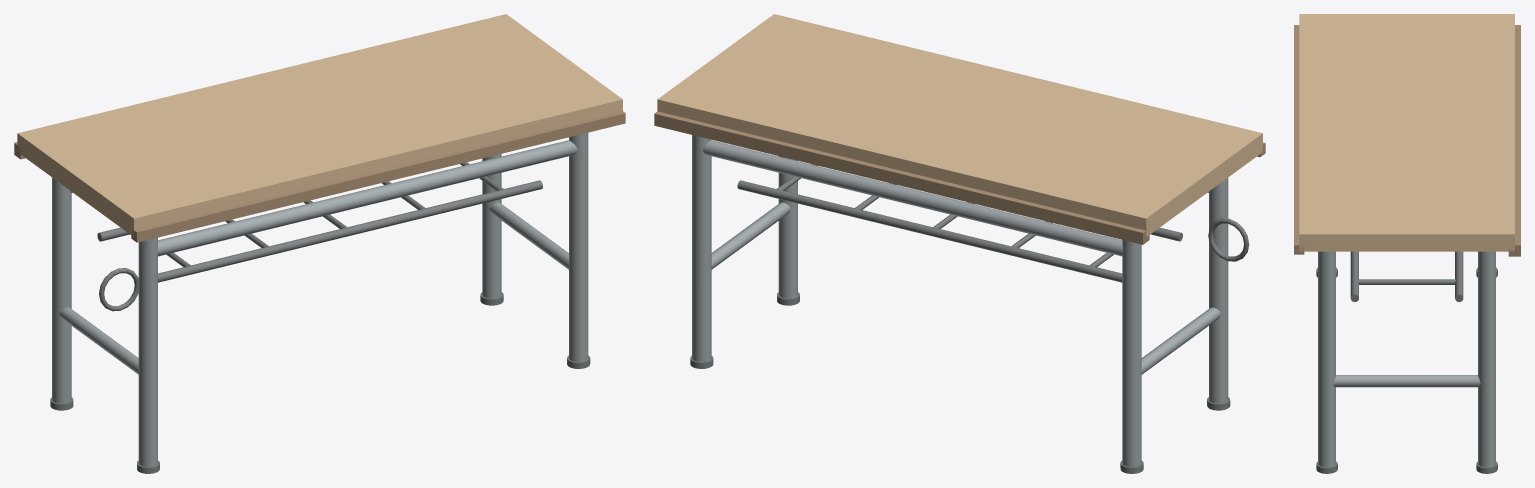
Rendered from student-desk-v1.glb.
The picture shows the model from 3 angles, left to right: view 1: azimuth 30°, elevation 25°; view 2: azimuth 150°, elevation 25°; view 3: azimuth 270°, elevation 25°; orthographic projection. The views are drawn at different scales.
Parts seen in each view (by area): view 1: student-desk-v1; view 2: student-desk-v1; view 3: student-desk-v1.
Boxes of the visible parts, x1,y1,x2,y2 form: student-desk-v1: (14,14,625,473); student-desk-v1: (654,14,1265,473); student-desk-v1: (1294,14,1520,473).
Size of the model in its own units: 1.53 by 0.7875 by 0.6525.
